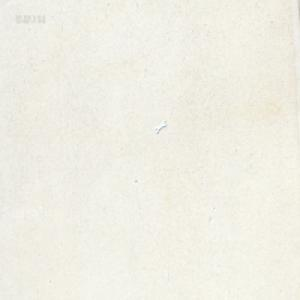Wrench: (155, 121, 166, 134)
